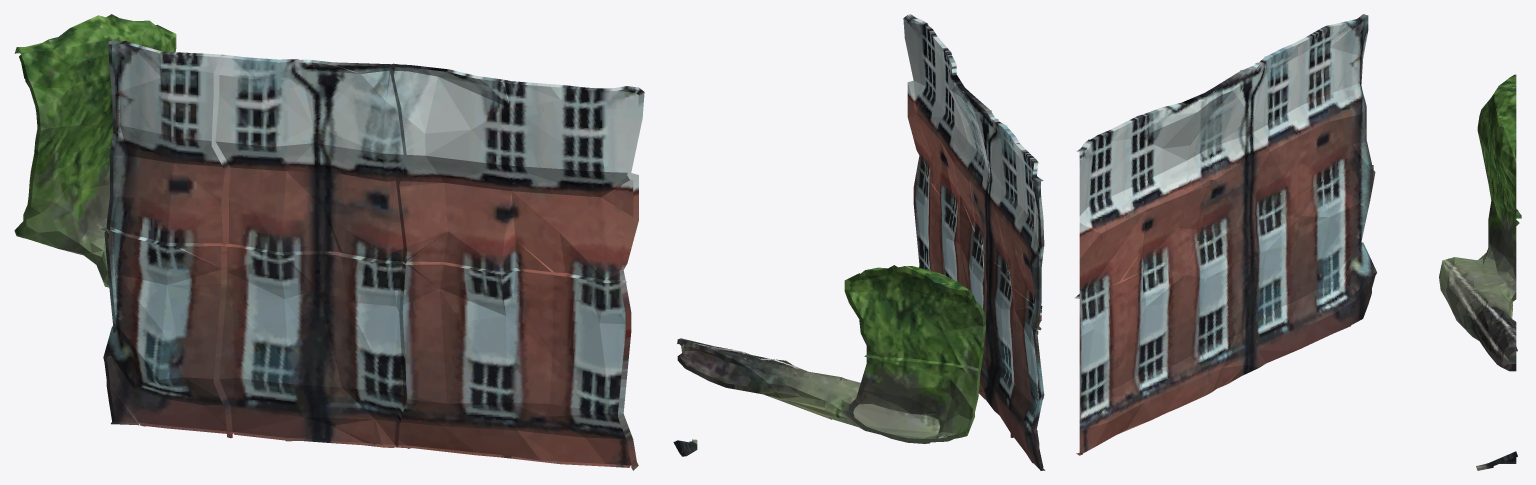
File: BuildingMesh-00064.gltf
3 renders of one model, left to right at view 1: azimuth 30°, elevation 25°; view 2: azimuth 150°, elevation 25°; view 3: azimuth 270°, elevation 25°, orthographic. The views are drawn at different scales.
Visible parts, largest first — view 1: BuildingMesh-00064; view 2: BuildingMesh-00064; view 3: BuildingMesh-00064.
Part boxes in pixels (x1,y1,x2,y2): BuildingMesh-00064: [14, 14, 644, 470]; BuildingMesh-00064: [673, 14, 1045, 470]; BuildingMesh-00064: [1074, 14, 1521, 470].
Size of the model in its own units: 0.8 by 0.7608 by 0.9961.
1 material, 1 textured.
